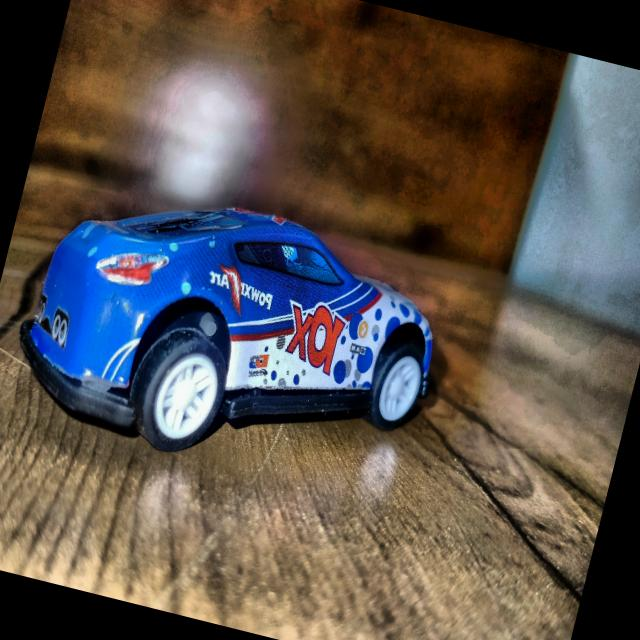Car: (1, 163, 458, 508)
